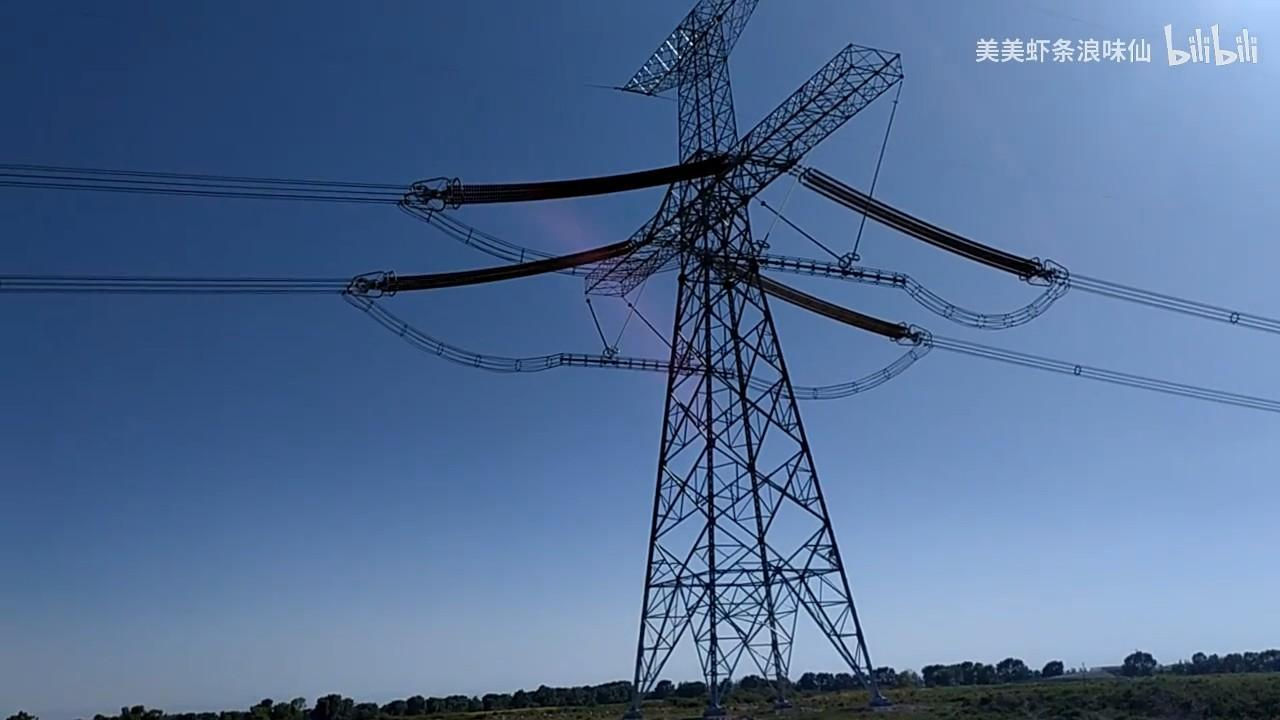power_tower: (339, 0, 1055, 679)
